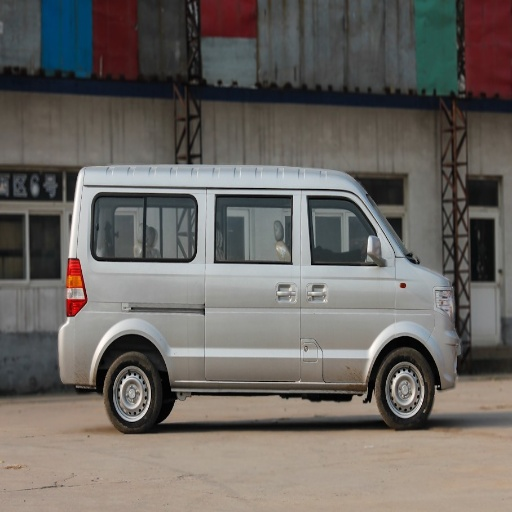back_right_door: (210, 190, 300, 318), (95, 192, 175, 238)
trunk: (67, 275, 207, 382), (348, 278, 451, 373)
